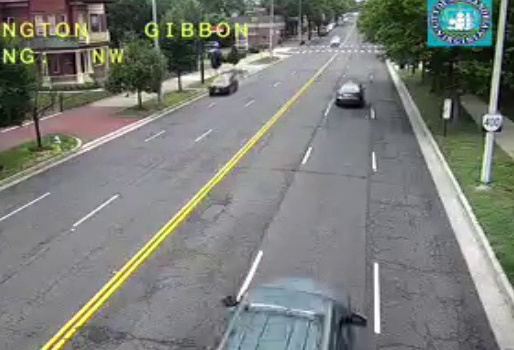car: (336, 84, 363, 106)
